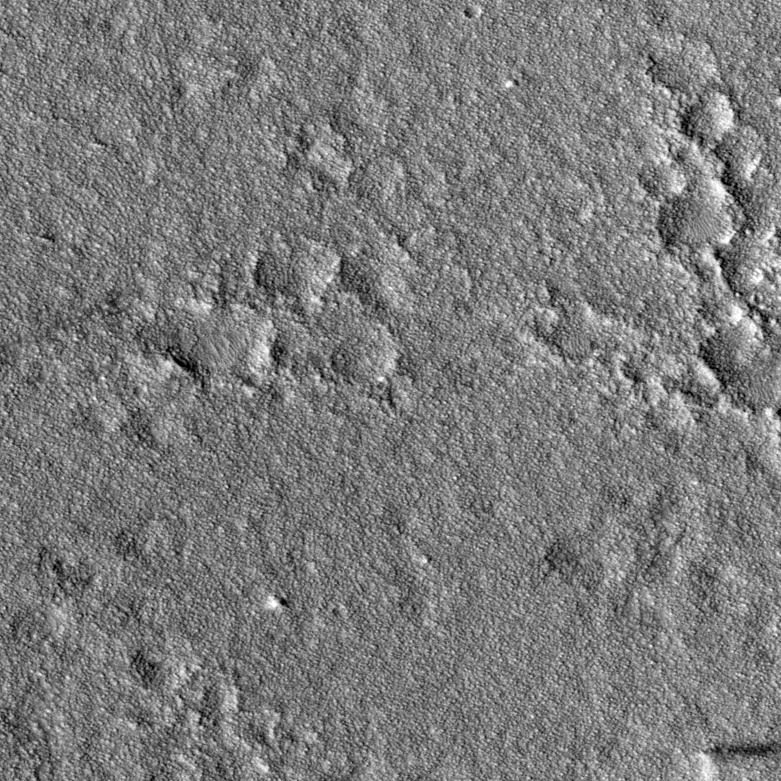dust_devil: (688, 740, 781, 781)
